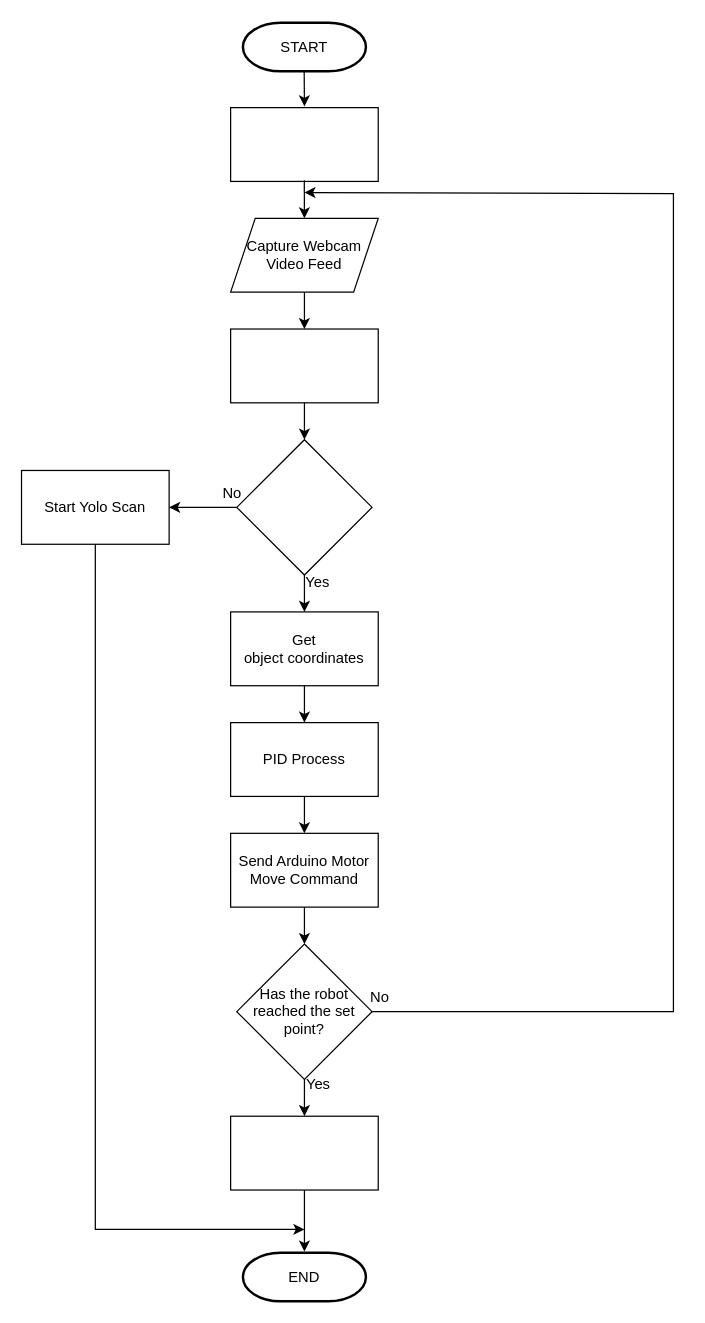
This 705x1323 diagram has some shape labels left out. Here are the shapes that lost their labels. From the top down, the box of each, then its label:
(229, 106, 378, 181): Receive YOLO object type from Yolo Scan
(229, 328, 378, 403): YOLO Object Detection
(236, 438, 372, 575): Did YOLO detect the object type?
(229, 1115, 378, 1190): Send object vertical position to Arm Process
